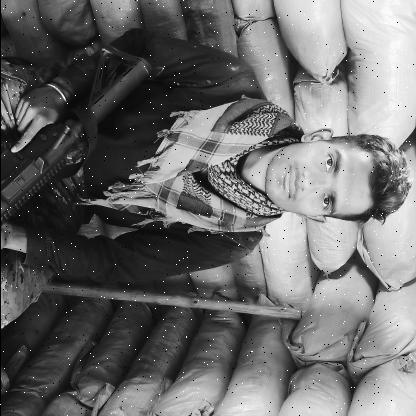rifle: (0, 42, 154, 228)
